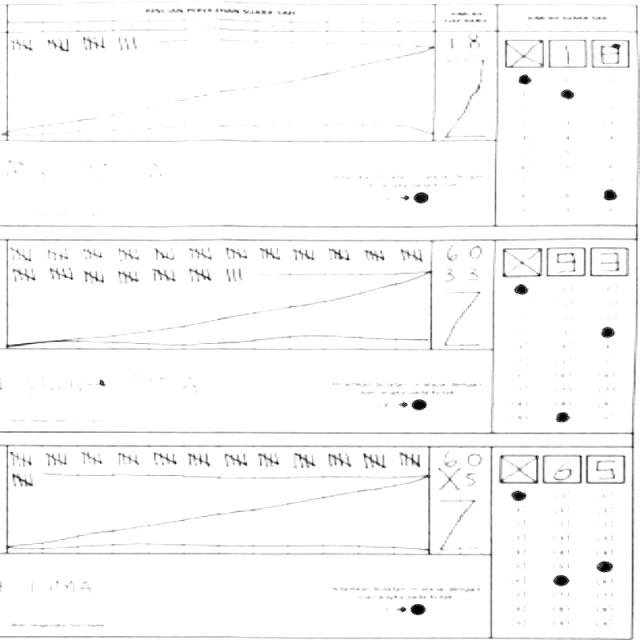Suara: (490, 448, 628, 488), (496, 241, 632, 280), (500, 33, 632, 72)
